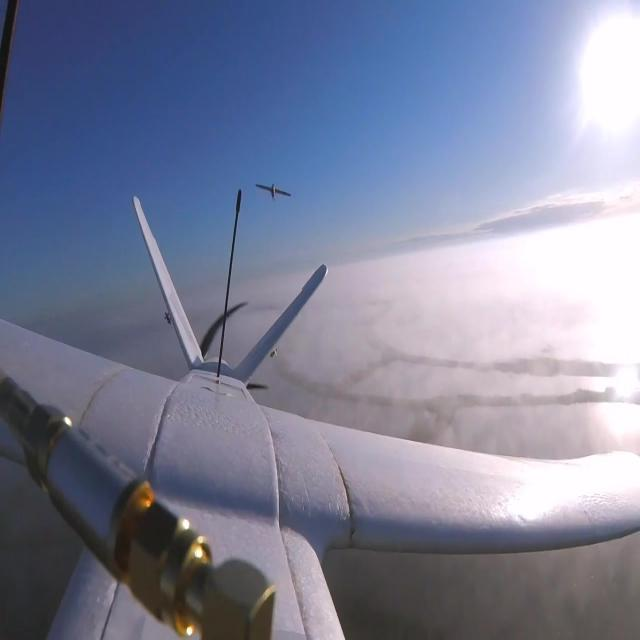iha: (255, 183, 292, 202)
